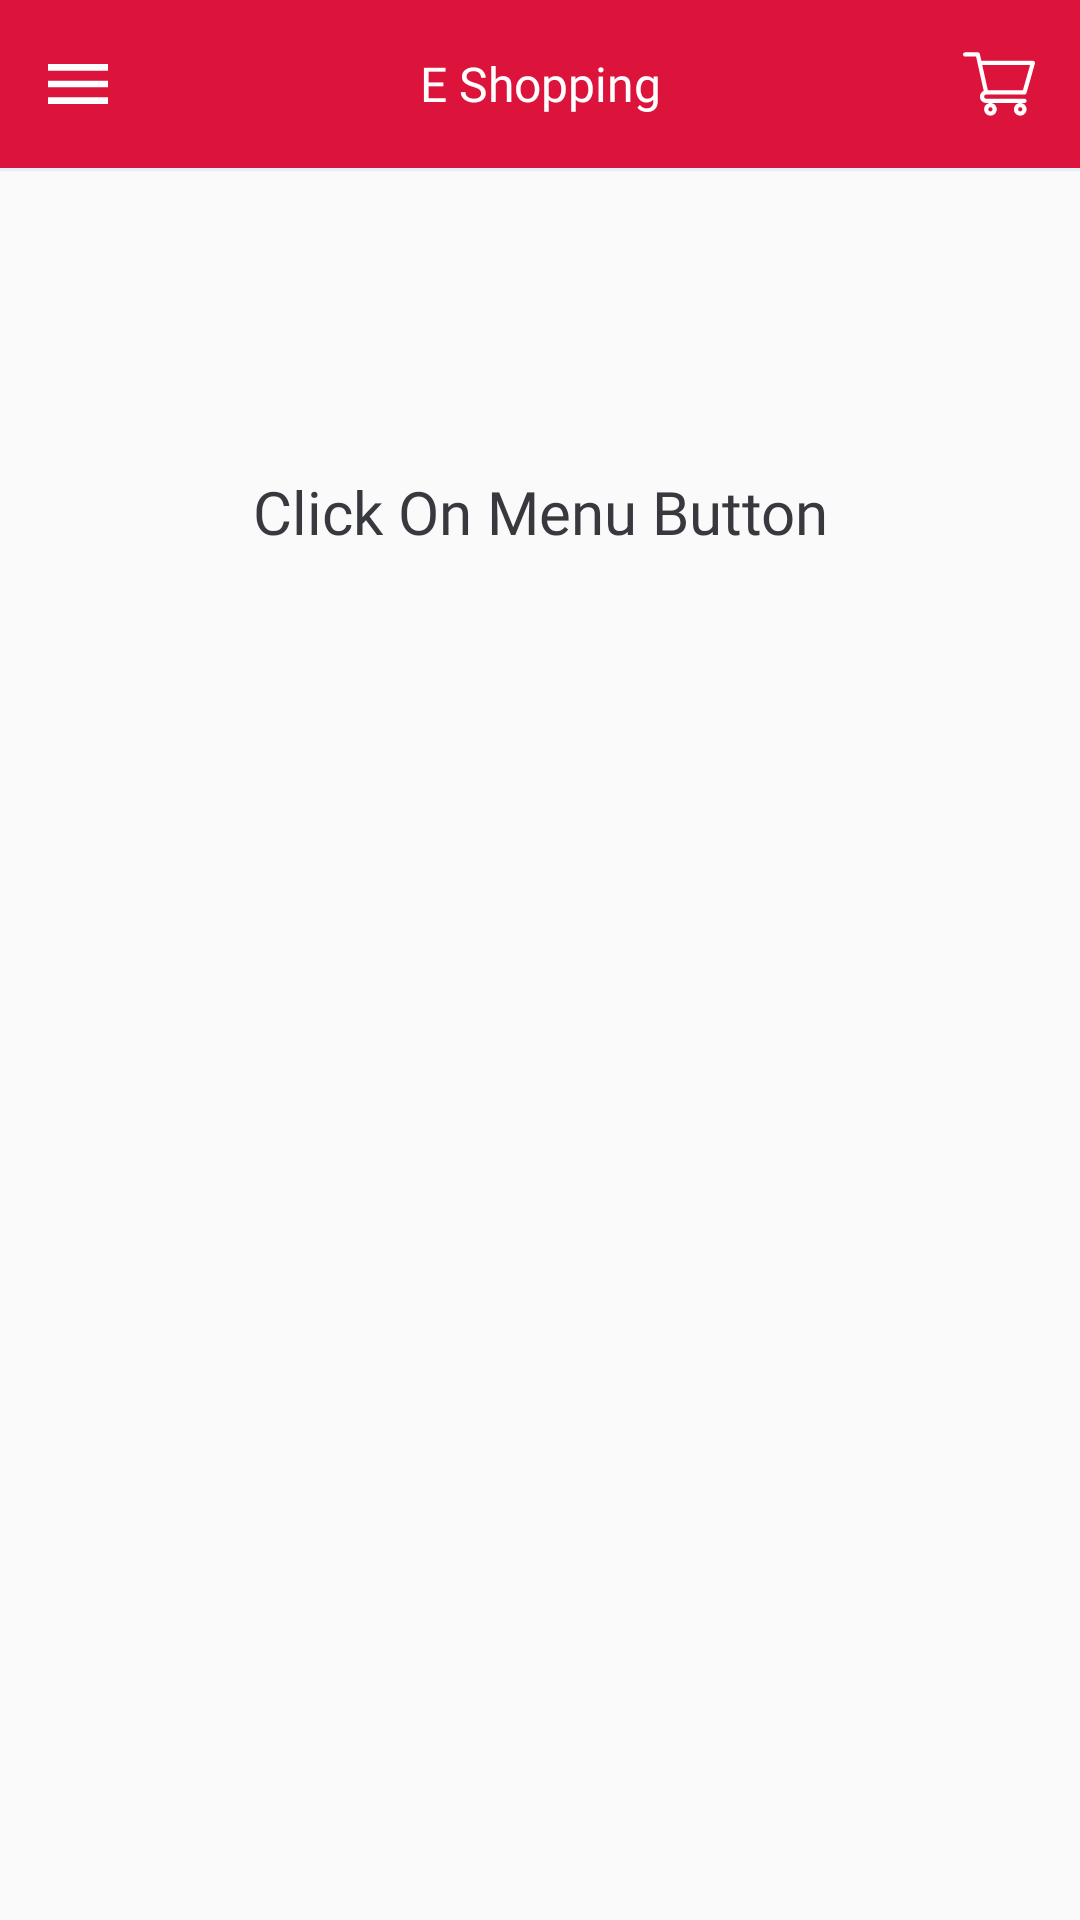

Icon click points for this 1080px x 1920px phone screenshot, format [x,y]:
menu: [78,84]
supermarket: [999,84]
